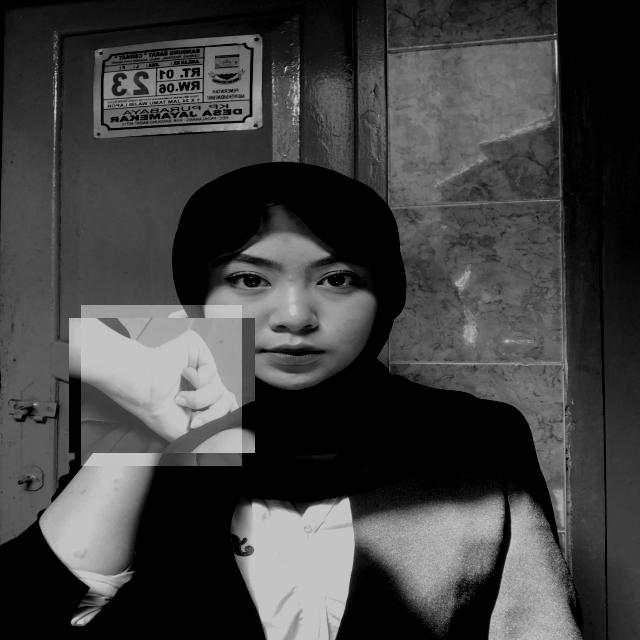ibu: (81, 305, 242, 466)
